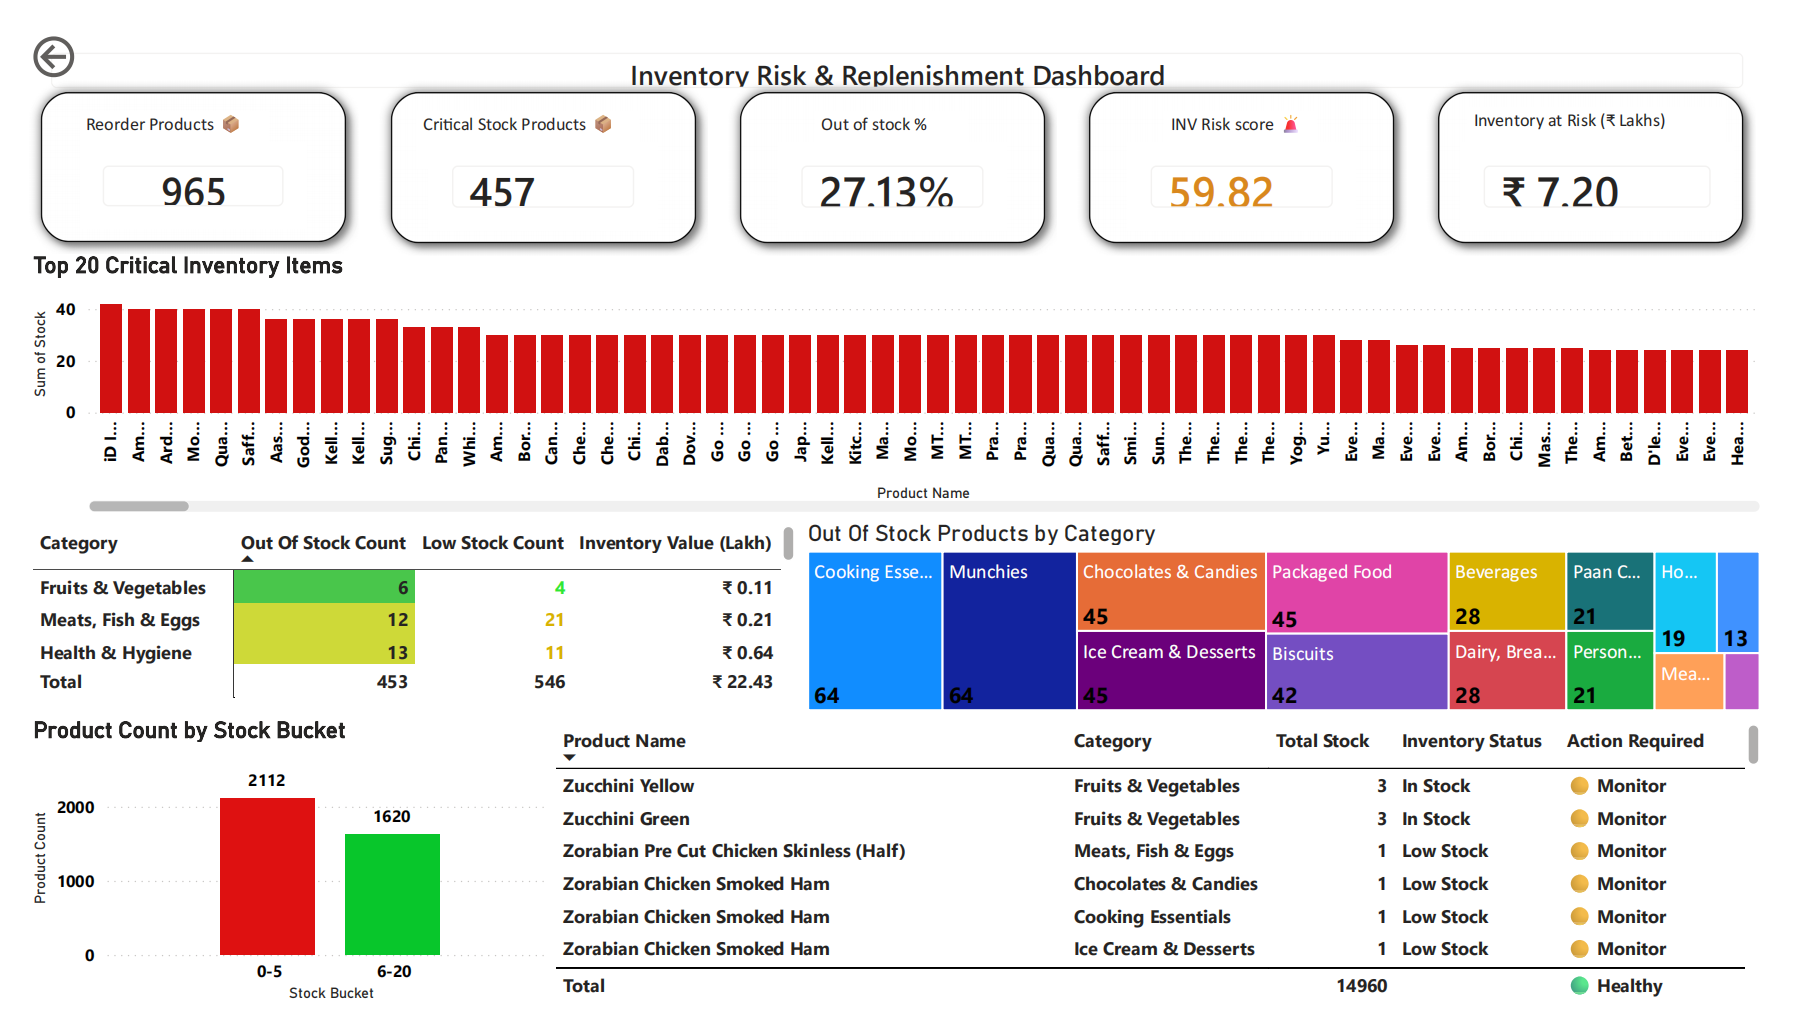

What the dashboard file says about the page in this screenshot:
{"tool":"powerbi","page":{"name":"Risk & Stock Optimization","canvas":[1280,720],"ordinal":1},"visuals":[{"type":"shape","box":[1.9,37.1,241.7,128.3],"z":0,"group":"g5"},{"type":"shape","box":[259,37.1,241.9,129.2],"z":0,"group":"g6"},{"type":"shape","box":[516.3,37.1,241.9,129.2],"z":0,"group":"g7"},{"type":"shape","box":[773.4,37.1,241.9,129.2],"z":0,"group":"g8"},{"type":"shape","box":[1030.5,37.1,241.9,129.2],"z":0,"group":"g10"},{"type":"clusteredColumnChart","title":"Top 20 Critical Inventory Items","fields":{"Y":["Sum(Working.Stock)"],"Category":["Working.Product Name"]},"box":[0,162.9,1280,197.1],"z":0},{"type":"cardVisual","fields":{"Data":["Working.Page Title"]},"box":[1.4,0,1278.6,60],"z":1000},{"type":"group","id":"g1","title":"Group 12","box":[1.9,37.1,241.7,128.3],"z":2000},{"type":"pivotTable","fields":{"Rows":["Working.Category"],"Values":["Working.Out Of Stock Count","Working.Low Stock Count","Working.Inventory Value (Lakh)"]},"box":[0,360,570,135.7],"z":3000},{"type":"clusteredColumnChart","fields":{"Category":["Working.Stock Bucket"],"Y":["Working.Product Count"]},"box":[0,505,395,215],"z":4000},{"type":"textbox","box":[1060.5,57.1,190,25.7],"z":5000,"group":"g10"},{"type":"textbox","box":[38.5,60.3,139.9,41.4],"z":5000,"group":"g5"},{"type":"textbox","box":[286.8,60.4,163.3,41.7],"z":5000,"group":"g6"},{"type":"textbox","box":[580.3,60.4,112.1,41.3],"z":5000,"group":"g7"},{"type":"textbox","box":[837.4,60.4,112.1,41.3],"z":5000,"group":"g8"},{"type":"treemap","fields":{"Group":["Working.Category"],"Values":["Working.Out Of Stock Products"]},"box":[570,360,710,145.7],"z":5000},{"type":"tableEx","fields":{"Values":["Working.Product Name","Working.Category","Working.Total Stock","Working.Inventory Status","Working.Action Required"]},"box":[384.3,505.7,895.7,214.3],"z":6000},{"type":"group","id":"g2","title":"Group 12","box":[259,37.1,241.9,129.2],"z":7000},{"type":"group","id":"g3","title":"Group 12","box":[516.3,37.1,241.7,128.3],"z":8000},{"type":"group","id":"g4","title":"Group 12","box":[773.4,37.1,241.7,128.3],"z":9000},{"type":"group","id":"g5","title":"Group 7","box":[1.9,37.1,241.7,128.3],"z":10000,"group":"g1"},{"type":"group","id":"g6","title":"Group 7","box":[259,37.1,241.9,129.2],"z":10000,"group":"g2"},{"type":"group","id":"g7","title":"Group 7","box":[516.3,37.1,241.9,129.2],"z":10000,"group":"g3"},{"type":"group","id":"g8","title":"Group 7","box":[773.4,37.1,241.9,129.2],"z":10000,"group":"g4"},{"type":"group","id":"g9","title":"Group 12","box":[1030.5,37.1,241.9,129.2],"z":10000},{"type":"group","id":"g10","title":"Group 7","box":[1030.5,37.1,241.9,129.2],"z":10000,"group":"g9"},{"type":"actionButton","box":[0,0,100,40],"z":11000},{"type":"cardVisual","fields":{"Data":["Working.Reorder Products"]},"box":[39.2,82.6,167,64.9],"z":12003,"group":"g1"},{"type":"cardVisual","fields":{"Data":["Working.INV at Risk (Lakh)"]},"box":[1055.4,82.8,201.4,65.7],"z":12003,"group":"g9"},{"type":"cardVisual","fields":{"Data":["Working.Critical Stock"]},"box":[296.4,82.9,167.2,65.3],"z":12003,"group":"g2"},{"type":"cardVisual","fields":{"Data":["Working.Out Of Stock %"]},"box":[553.7,82.9,167.2,65.3],"z":12003,"group":"g3"},{"type":"cardVisual","fields":{"Data":["Working.Risk Score"]},"box":[810.8,82.9,167.2,65.3],"z":12003,"group":"g4"}]}

Visuals, with their boxes in screenshot pixels (x1, y1, x2, y2), scaled from the page's 1280x720 canvas onto the 1797x1032 screenshot:
shape: rect(3, 53, 342, 237)
shape: rect(364, 53, 703, 238)
shape: rect(725, 53, 1064, 238)
shape: rect(1086, 53, 1425, 238)
shape: rect(1447, 53, 1786, 238)
"Top 20 Critical Inventory Items" clusteredColumnChart: rect(0, 233, 1796, 516)
cardVisual - Working.Page Title: rect(2, 0, 1796, 86)
"Group 12" group: rect(3, 53, 342, 237)
pivotTable - Working.Category x Working.Out Of Stock Count: rect(0, 516, 800, 711)
clusteredColumnChart - Working.Stock Bucket x Working.Product Count: rect(0, 724, 555, 1031)
textbox: rect(1489, 82, 1756, 119)
textbox: rect(54, 86, 250, 146)
textbox: rect(403, 87, 632, 146)
textbox: rect(815, 87, 972, 146)
textbox: rect(1176, 87, 1333, 146)
treemap - Working.Category x Working.Out Of Stock Products: rect(800, 516, 1796, 725)
tableEx - Working.Product Name x Working.Category: rect(540, 725, 1796, 1031)
"Group 12" group: rect(364, 53, 703, 238)
"Group 12" group: rect(725, 53, 1064, 237)
"Group 12" group: rect(1086, 53, 1425, 237)
"Group 7" group: rect(3, 53, 342, 237)
"Group 7" group: rect(364, 53, 703, 238)
"Group 7" group: rect(725, 53, 1064, 238)
"Group 7" group: rect(1086, 53, 1425, 238)
"Group 12" group: rect(1447, 53, 1786, 238)
"Group 7" group: rect(1447, 53, 1786, 238)
actionButton: rect(0, 0, 140, 57)
cardVisual - Working.Reorder Products: rect(55, 118, 289, 211)
cardVisual - Working.INV at Risk (Lakh): rect(1482, 119, 1764, 213)
cardVisual - Working.Critical Stock: rect(416, 119, 651, 212)
cardVisual - Working.Out Of Stock %: rect(777, 119, 1012, 212)
cardVisual - Working.Risk Score: rect(1138, 119, 1373, 212)
